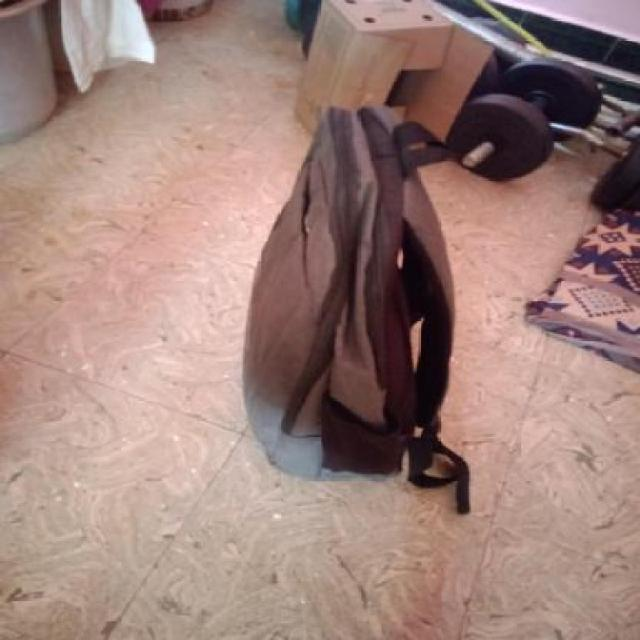backpack: (238, 96, 480, 518)
